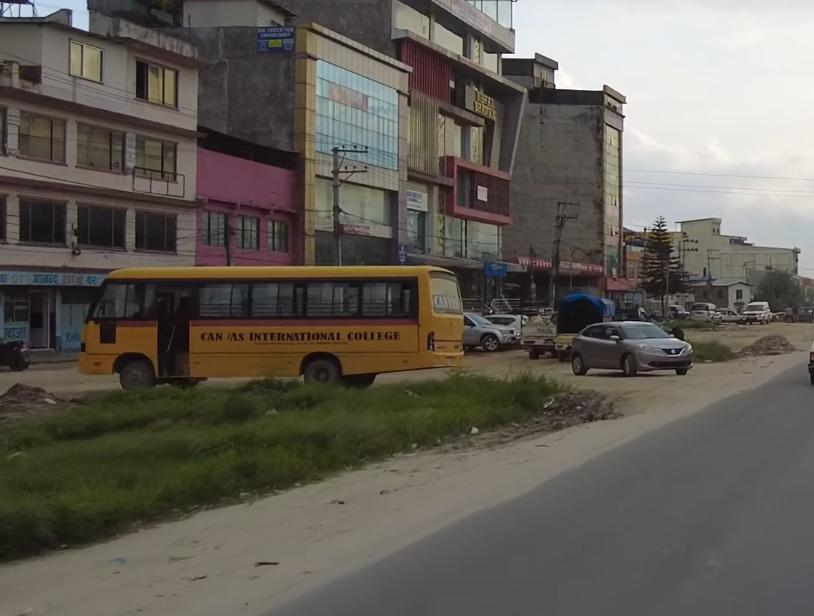car: (567, 317, 699, 384)
school_bus: (76, 259, 474, 401)
